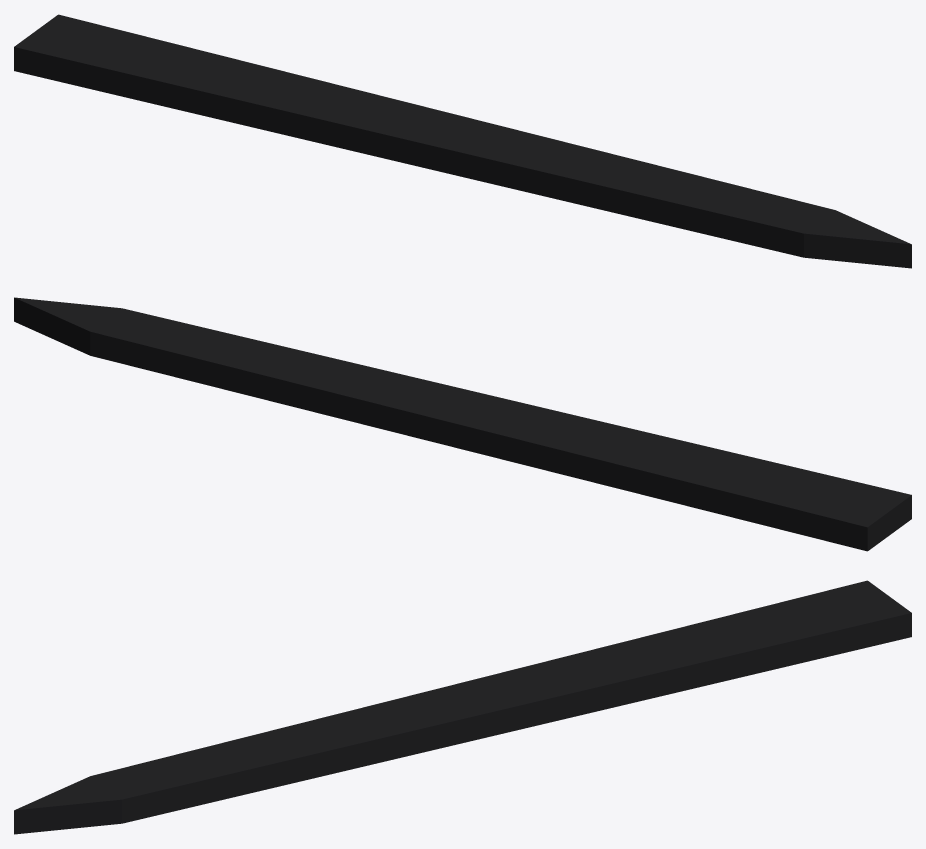
File: lp_clkhand_m05.obj
3 renders of one model, top to bottom at view 1: azimuth 30°, elevation 25°; view 2: azimuth 210°, elevation 25°; view 3: azimuth 270°, elevation 25°, orthographic.
Visible parts, largest first — view 1: lp_clkhand_m05; view 2: lp_clkhand_m05; view 3: lp_clkhand_m05.
Boxes of the visible parts, box(x1,y1,x2,y2) form: lp_clkhand_m05: box(14, 14, 911, 268); lp_clkhand_m05: box(14, 297, 911, 551); lp_clkhand_m05: box(14, 580, 911, 834).
Bounding box in the file's own units: 0.6133 × 0.03 × 1.01.
1 material, 1 textured.
